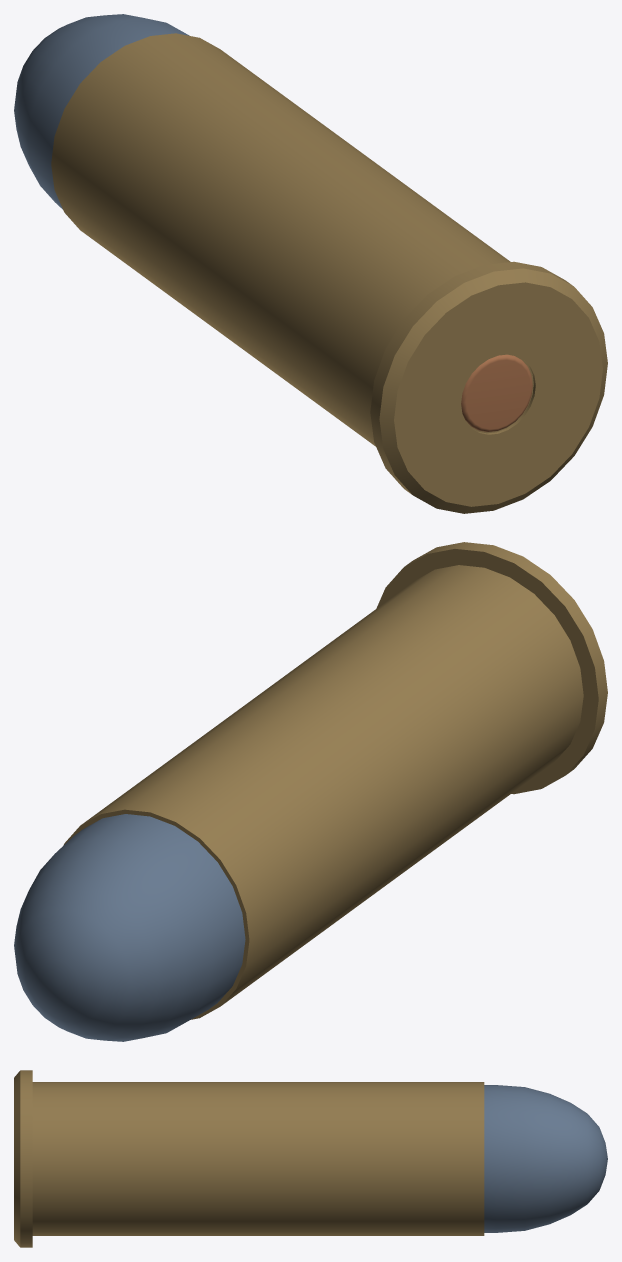
Rendered from CarbineRound.fbx.
3 renders of one model, top to bottom at view 1: azimuth 30°, elevation 25°; view 2: azimuth 150°, elevation 25°; view 3: azimuth 270°, elevation 25°, orthographic. The views are drawn at different scales.
Visible parts, largest first — view 1: CarbineRound; view 2: CarbineRound; view 3: CarbineRound.
Part boxes in pixels (x1,y1,x2,y2): CarbineRound: (14,14,607,513); CarbineRound: (14,542,607,1041); CarbineRound: (14,1070,607,1247).
Bounding box in the file's own units: 1.44 × 1.44 × 4.8.
